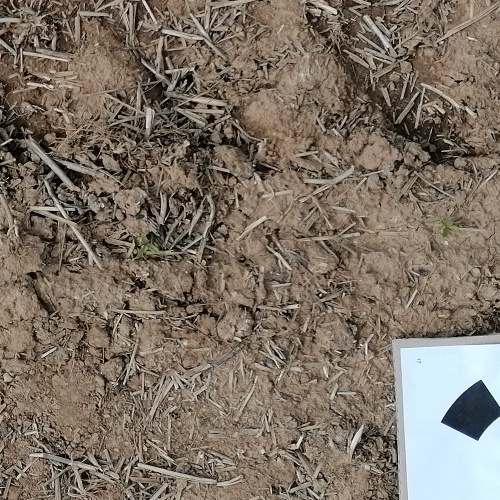beet: (131, 235, 167, 258), (438, 216, 465, 235)
